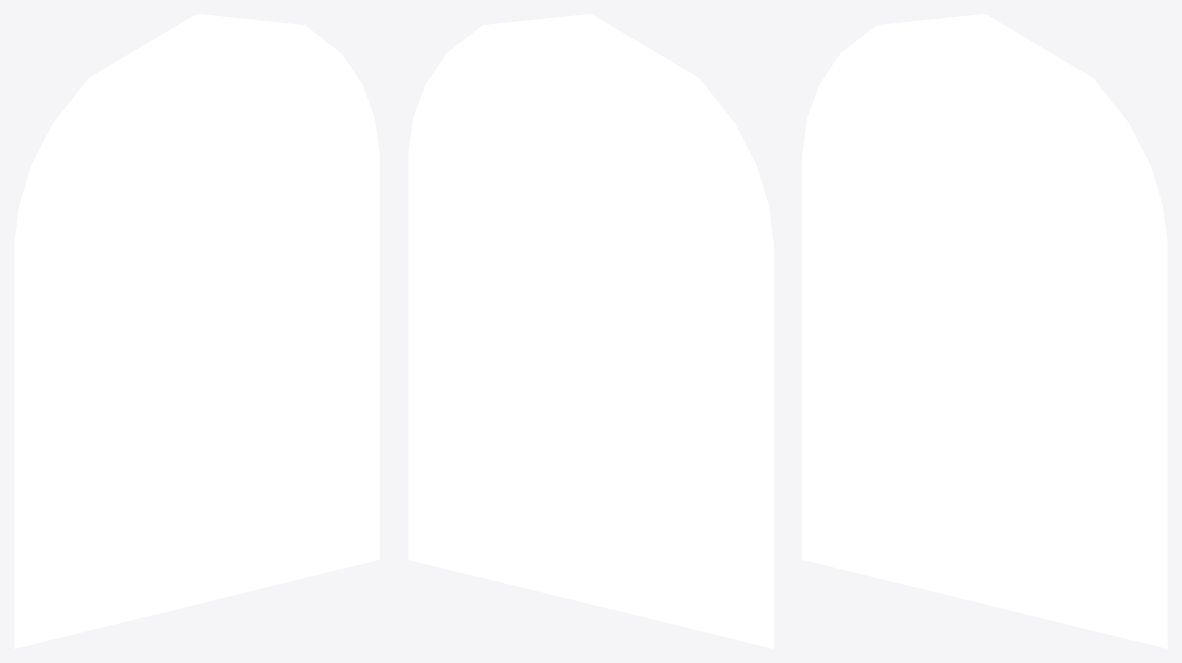
Rendered from gate_veil_kargan.glb.
3 views of the same model, side by side, from view 1: azimuth 30°, elevation 25°; view 2: azimuth 150°, elevation 25°; view 3: azimuth 330°, elevation 25° (orthographic).
Parts seen in each view (by area): view 1: gate_veil_kargan; view 2: gate_veil_kargan; view 3: gate_veil_kargan.
Part boxes in pixels (x1,y1,x2,y2): gate_veil_kargan: (14, 14, 379, 648); gate_veil_kargan: (408, 14, 773, 648); gate_veil_kargan: (802, 14, 1167, 648).
Bounding box in the file's own units: 3.34 × 5.15 × 0.
1 material, 1 textured.
